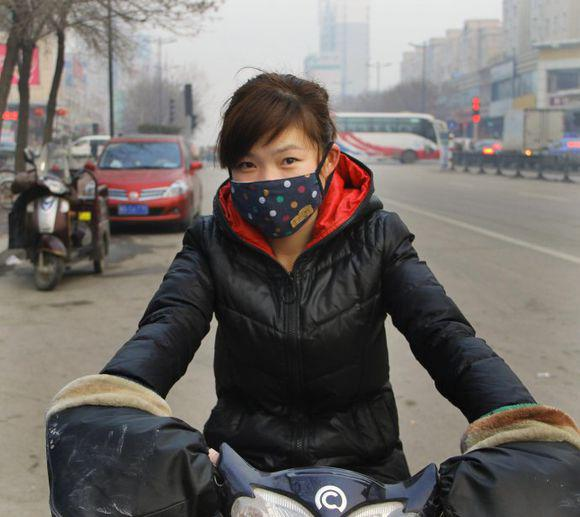OK: (228, 141, 321, 238)
